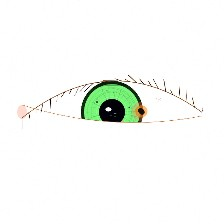foreign_body_visible: (95, 111, 139, 146)
